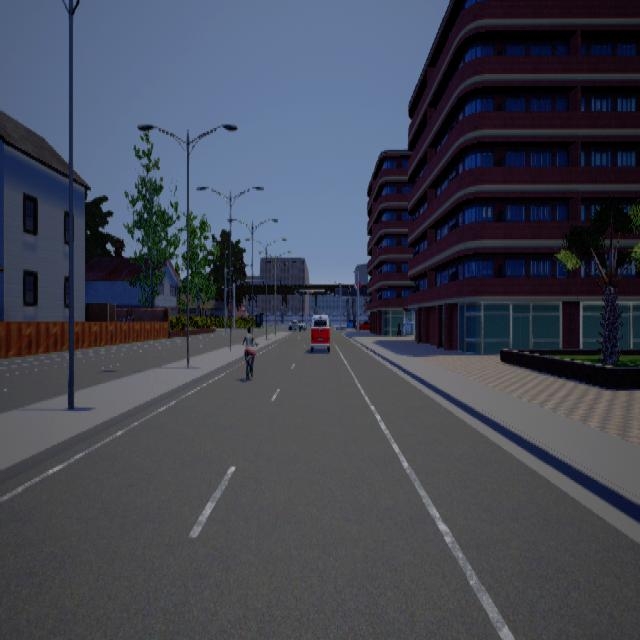bike: (240, 326, 256, 381)
vehicle: (309, 313, 330, 352)
